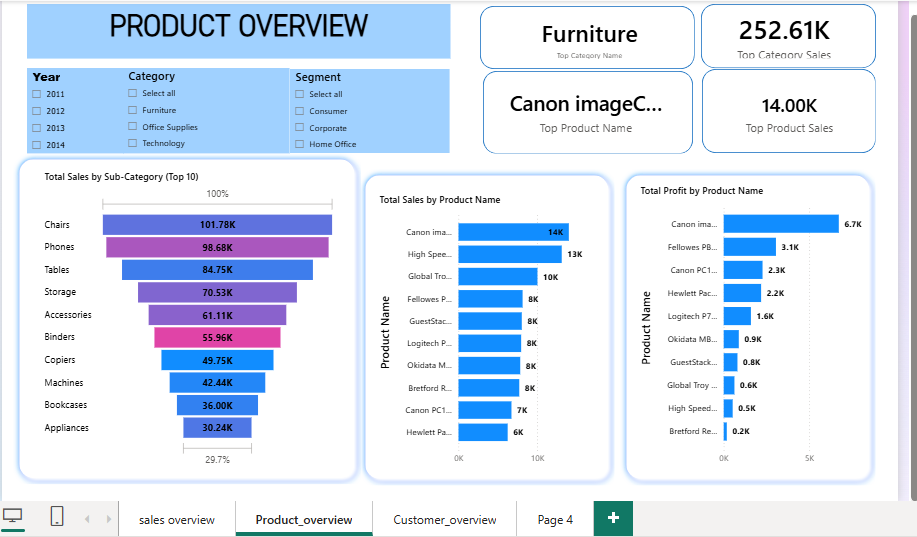

Layout of this report page (visuals, bound fields, positions):
{"tool":"powerbi","page":{"name":"Product_overview","canvas":[1280,720],"ordinal":1},"visuals":[{"type":"shape","box":[883.3,245,365,451.7],"z":0},{"type":"shape","box":[510,245,365,451.7],"z":1000},{"type":"shape","box":[1000,103.3,248.3,120],"z":2000},{"type":"shape","box":[15,223.3,496.7,473.3],"z":3000},{"type":"shape","box":[998.3,10,250,91.7],"z":4000},{"type":"shape","box":[686.7,105,300,118.3],"z":6000},{"type":"shape","box":[683.3,13.3,306.7,90],"z":7000},{"type":"card","fields":{"Values":["DimCustomer.Top Category Name"]},"box":[693.3,18.3,293.3,81.7],"z":8000},{"type":"card","fields":{"Values":["DimCustomer.Top Category Sales"]},"box":[1035,11.7,163.3,88.3],"z":9000},{"type":"card","fields":{"Values":["DimCustomer.Top Product Name"]},"box":[710,111.7,248.3,103.3],"z":10000},{"type":"card","fields":{"Values":["DimCustomer.Top Product Sales"]},"box":[1030,108.3,190,113.3],"z":11000},{"type":"clusteredBarChart","fields":{"Category":["DimProduct.Product Name"],"Y":["Walmart.Total Sales"]},"box":[526.7,268.3,331.7,415],"z":12000},{"type":"clusteredBarChart","fields":{"Category":["DimProduct.Product Name"],"Y":["Walmart.Total Profit"]},"box":[900,256.3,352.8,427.7],"z":13000},{"type":"slicer","fields":{"Values":["DimDate.Year"]},"box":[35,101.7,138.3,121.7],"z":14000},{"type":"slicer","fields":{"Values":["DimProduct.Category"]},"box":[173.3,101.7,238.3,121.7],"z":15000},{"type":"slicer","fields":{"Values":["DimCustomer.Segment"]},"box":[411.7,103.3,228.3,120],"z":16000},{"type":"textbox","box":[35,10,605,78.3],"z":17000},{"type":"funnel","title":"Total Sales by Sub-Category (Top 10)","fields":{"Category":["DimProduct.Sub-Category"],"Y":["Walmart.Total Sales"]},"box":[48.6,235.7,440,447.1],"z":19000}]}

Visuals, with their boxes on the page's 1280x720 design canvas (x1, y1, x2, y2). These are canvas units, not pixel positions in the 917x537 screenshot, which may show the page scaled, cropped or inside an application window:
shape: pyautogui.locateOnScreen(883, 245, 1248, 697)
shape: pyautogui.locateOnScreen(510, 245, 875, 697)
shape: pyautogui.locateOnScreen(1000, 103, 1248, 223)
shape: pyautogui.locateOnScreen(15, 223, 512, 697)
shape: pyautogui.locateOnScreen(998, 10, 1248, 102)
shape: pyautogui.locateOnScreen(687, 105, 987, 223)
shape: pyautogui.locateOnScreen(683, 13, 990, 103)
card - DimCustomer.Top Category Name: pyautogui.locateOnScreen(693, 18, 987, 100)
card - DimCustomer.Top Category Sales: pyautogui.locateOnScreen(1035, 12, 1198, 100)
card - DimCustomer.Top Product Name: pyautogui.locateOnScreen(710, 112, 958, 215)
card - DimCustomer.Top Product Sales: pyautogui.locateOnScreen(1030, 108, 1220, 222)
clusteredBarChart - DimProduct.Product Name x Walmart.Total Sales: pyautogui.locateOnScreen(527, 268, 858, 683)
clusteredBarChart - DimProduct.Product Name x Walmart.Total Profit: pyautogui.locateOnScreen(900, 256, 1253, 684)
slicer - DimDate.Year: pyautogui.locateOnScreen(35, 102, 173, 223)
slicer - DimProduct.Category: pyautogui.locateOnScreen(173, 102, 412, 223)
slicer - DimCustomer.Segment: pyautogui.locateOnScreen(412, 103, 640, 223)
textbox: pyautogui.locateOnScreen(35, 10, 640, 88)
"Total Sales by Sub-Category (Top 10)" funnel: pyautogui.locateOnScreen(49, 236, 489, 683)
